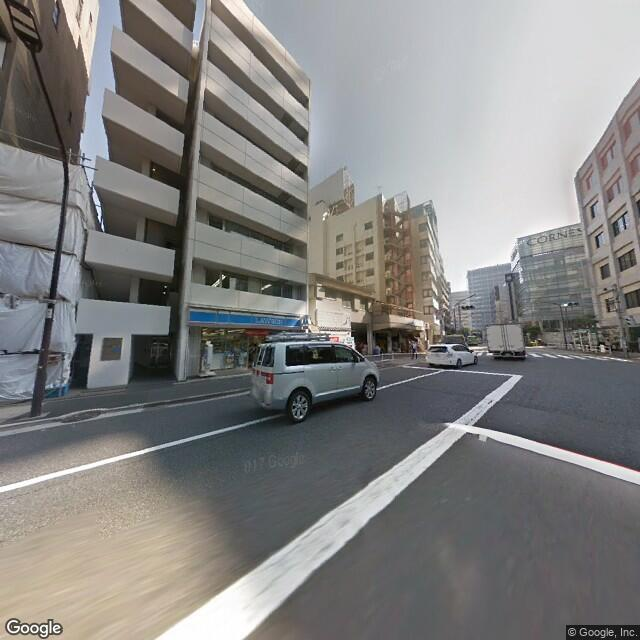lawson: (188, 303, 308, 330)
